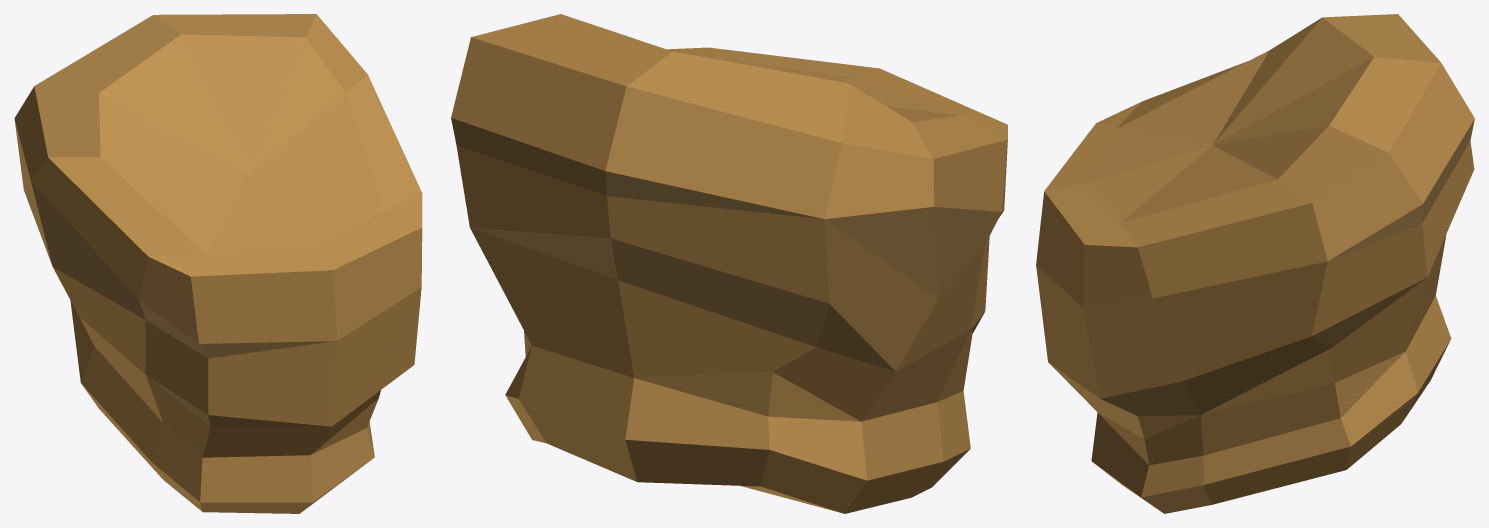
File: SM_Chr_Attach_Insurgent_Headpiece_02.fbx
3 renders of one model, left to right at view 1: azimuth 30°, elevation 25°; view 2: azimuth 150°, elevation 25°; view 3: azimuth 270°, elevation 25°, orthographic. The views are drawn at different scales.
Parts seen in each view (by area): view 1: SM_Chr_Attach_Insurgent_Headpiece_02; view 2: SM_Chr_Attach_Insurgent_Headpiece_02; view 3: SM_Chr_Attach_Insurgent_Headpiece_02.
Boxes of the visible parts, <box> form: SM_Chr_Attach_Insurgent_Headpiece_02: <box>14,14,422,513</box>; SM_Chr_Attach_Insurgent_Headpiece_02: <box>451,14,1007,513</box>; SM_Chr_Attach_Insurgent_Headpiece_02: <box>1036,14,1474,513</box>.
Size of the model in its own units: 29.26 by 31.8 by 29.62.
